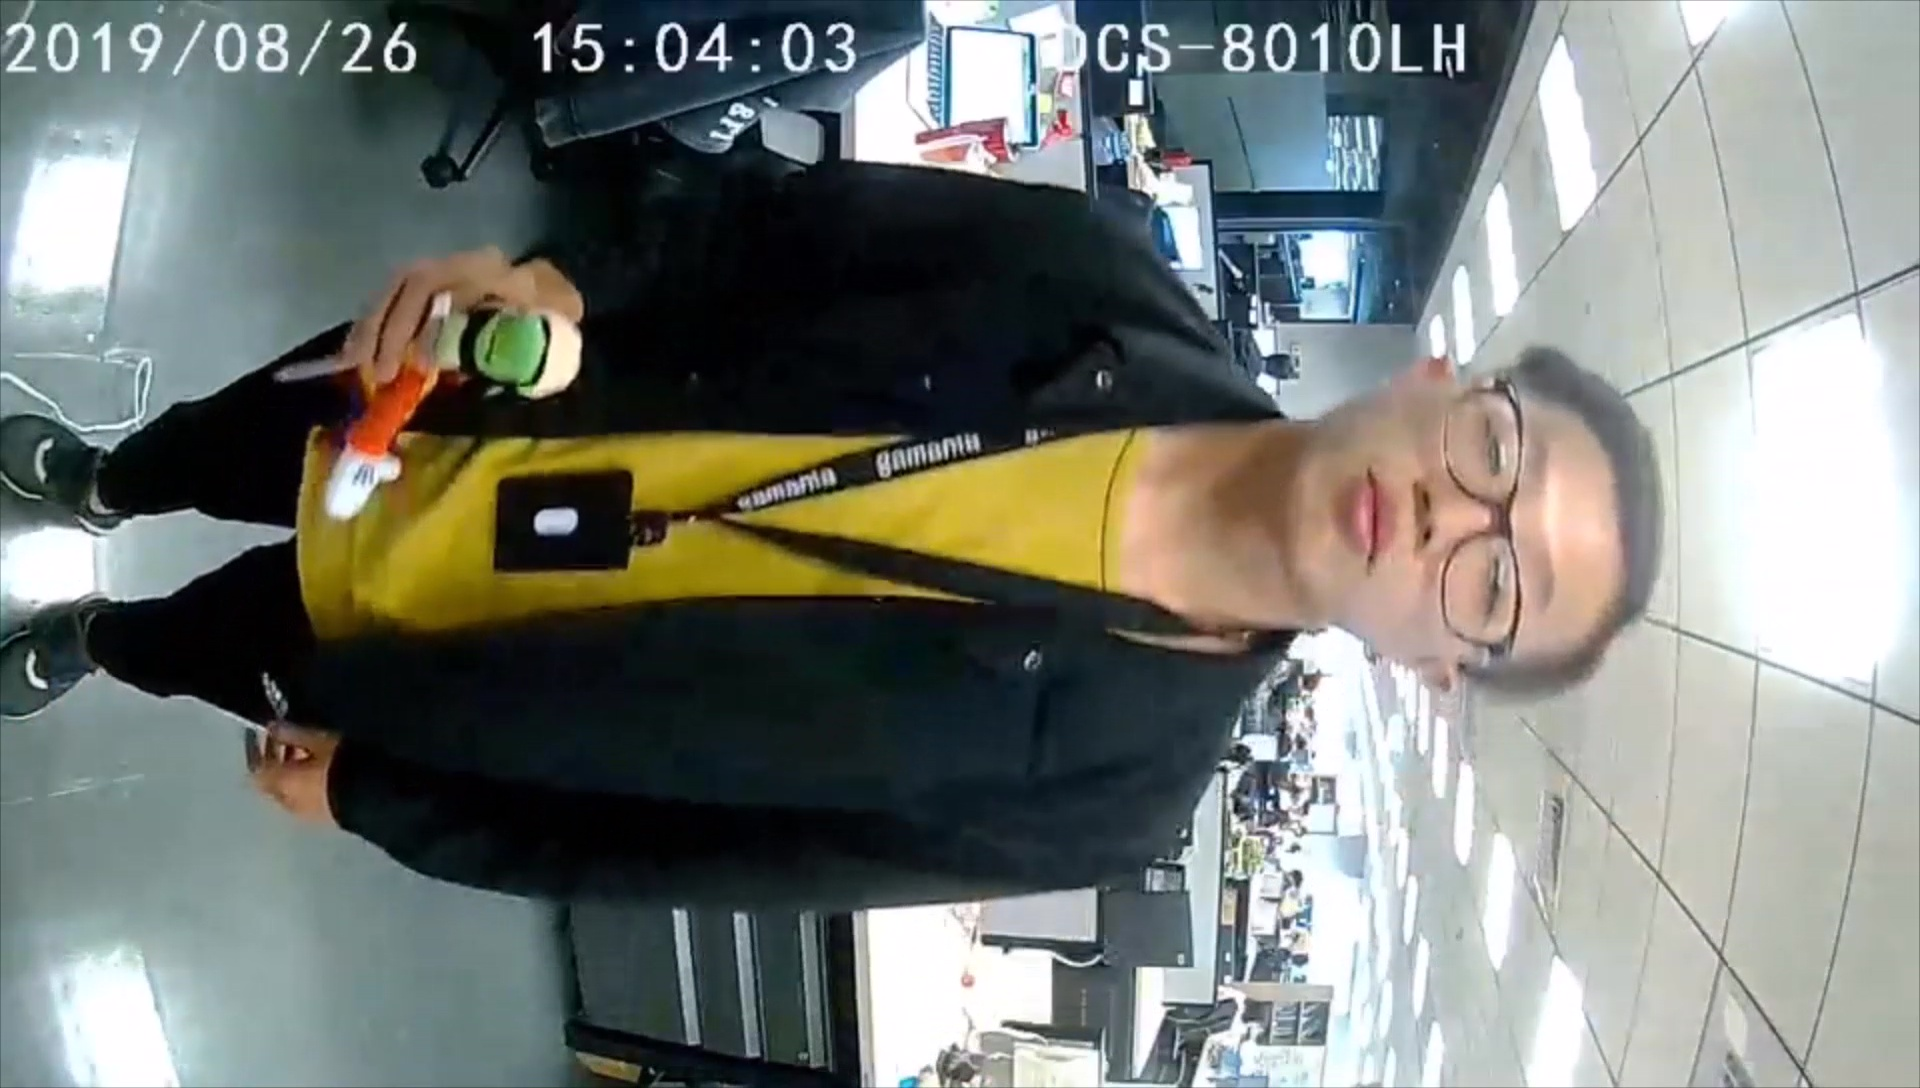goofy: (314, 290, 585, 520)
